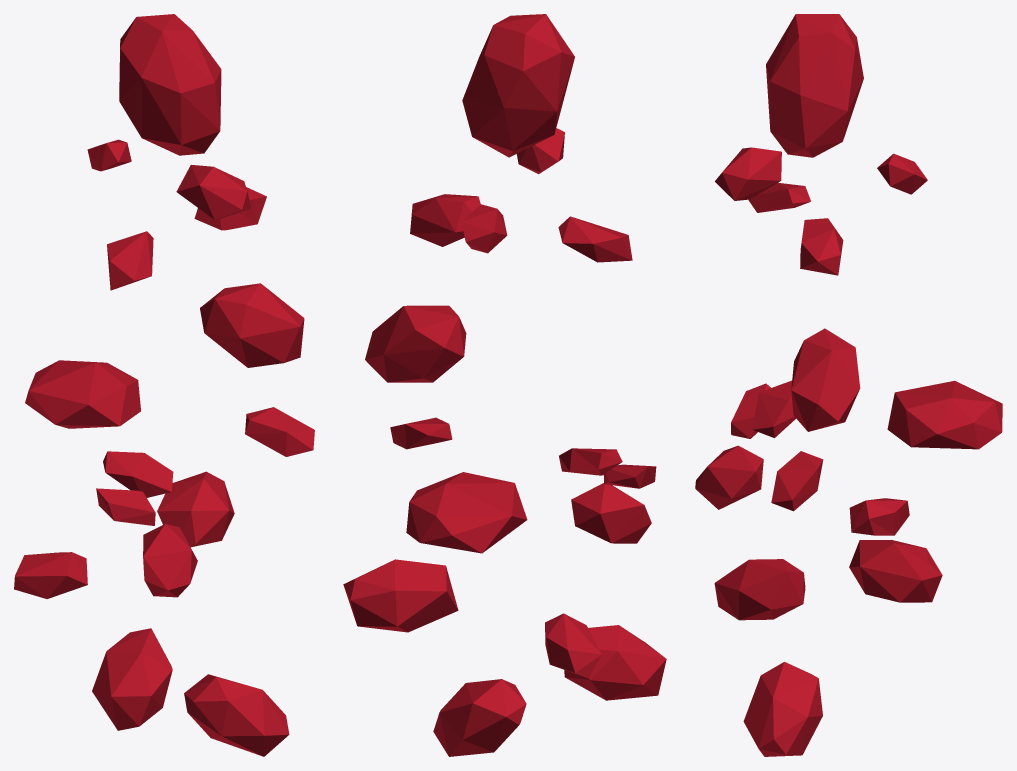
Rendered from tree-dead-leaves-025.glb.
3 renders of one model, left to right at view 1: azimuth 30°, elevation 25°; view 2: azimuth 150°, elevation 25°; view 3: azimuth 270°, elevation 25°, orthographic. The views are drawn at different scales.
Parts seen in each view (by area): view 1: Icosphere.015_466; view 2: Icosphere.015_466; view 3: Icosphere.015_466.
Boxes of the visible parts, x1,y1,x2,y2 form: Icosphere.015_466: [14, 14, 314, 756]; Icosphere.015_466: [343, 14, 666, 756]; Icosphere.015_466: [695, 14, 1002, 756].
Size of the model in its own units: 0.7094 by 1.96 by 0.7754.
